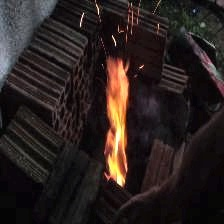fire: (81, 3, 152, 191)
